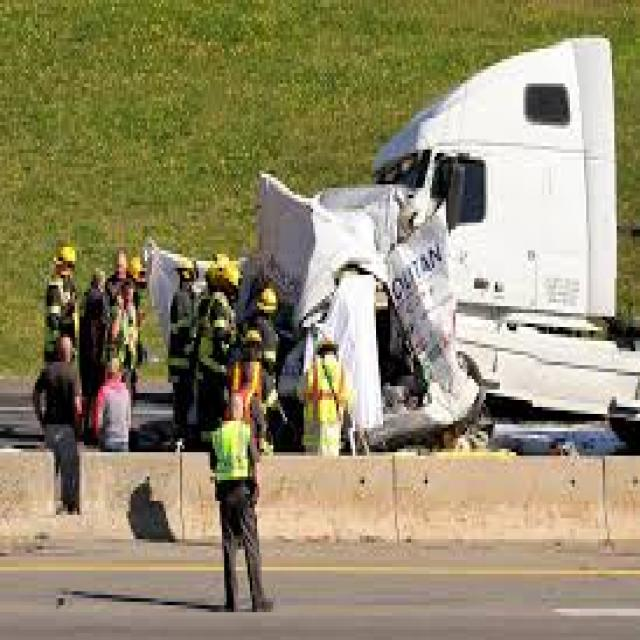accident: (150, 76, 640, 456)
